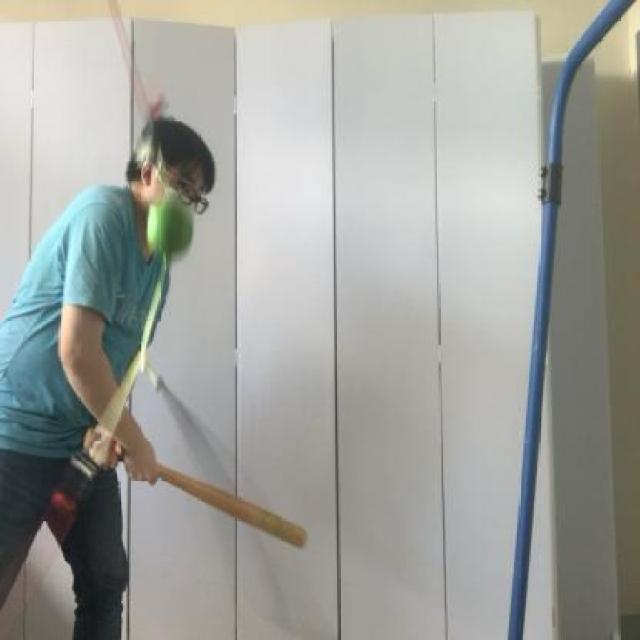baseball: (140, 182, 198, 272)
